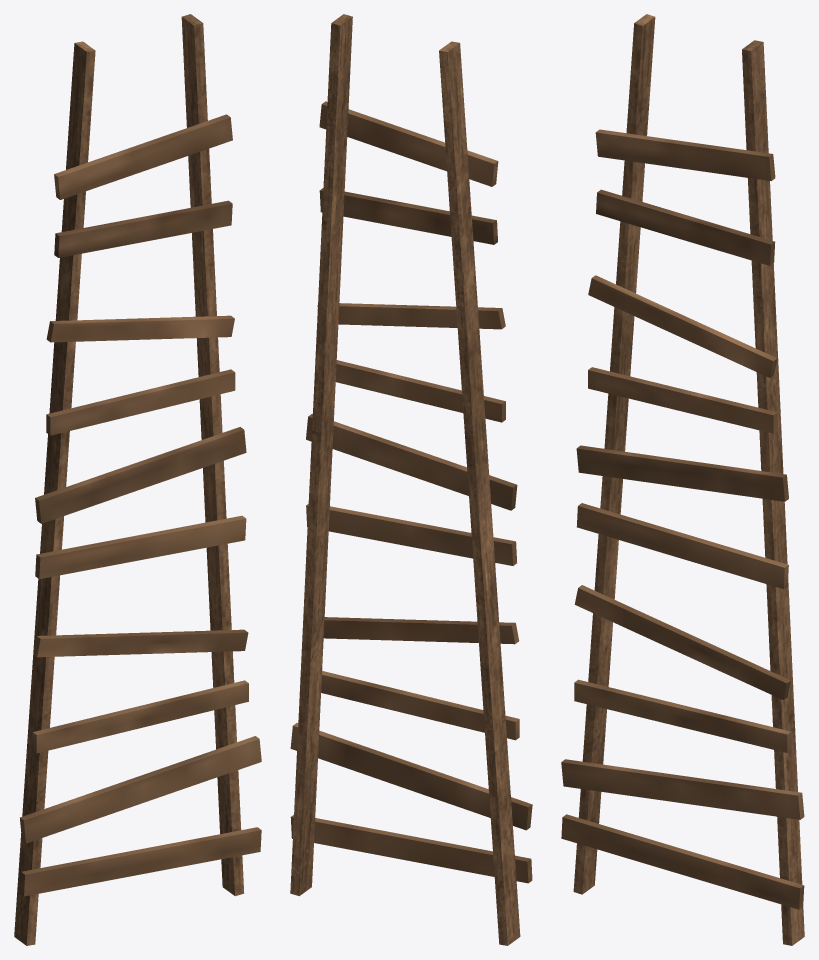
Rendered from ladder.fbx.
The picture shows the model from 3 angles, left to right: view 1: azimuth 30°, elevation 25°; view 2: azimuth 150°, elevation 25°; view 3: azimuth 330°, elevation 25°; orthographic projection.
Parts seen in each view (by area): view 1: Sketchfab Model.001; view 2: Sketchfab Model.001; view 3: Sketchfab Model.001.
Boxes of the visible parts, bbox=[...] form: Sketchfab Model.001: bbox=[14, 14, 261, 945]; Sketchfab Model.001: bbox=[290, 14, 532, 945]; Sketchfab Model.001: bbox=[561, 14, 804, 945].
Bounding box in the file's own units: 8476 × 29980 × 1062.
1 material, 1 textured.
